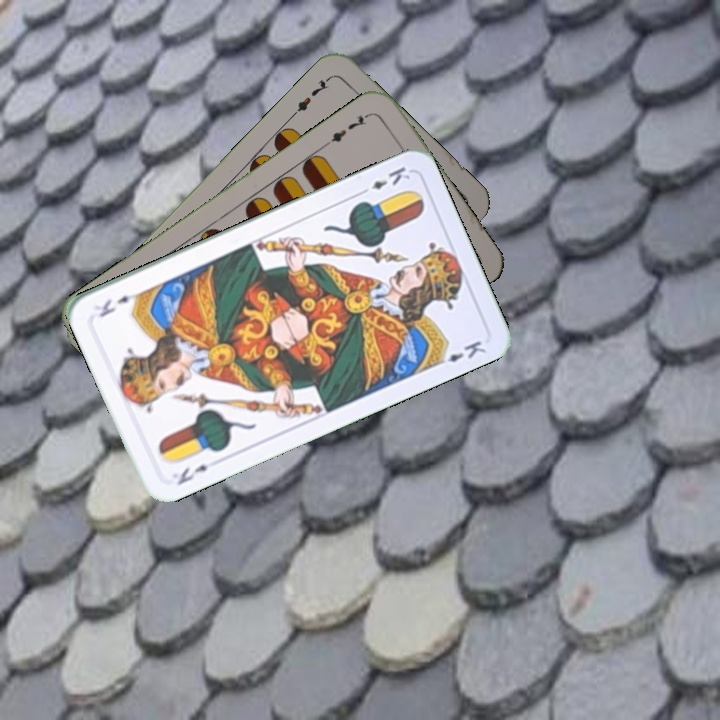E7: (288, 72, 334, 119), (322, 109, 374, 148)
EK: (356, 162, 413, 198), (173, 460, 211, 488)
